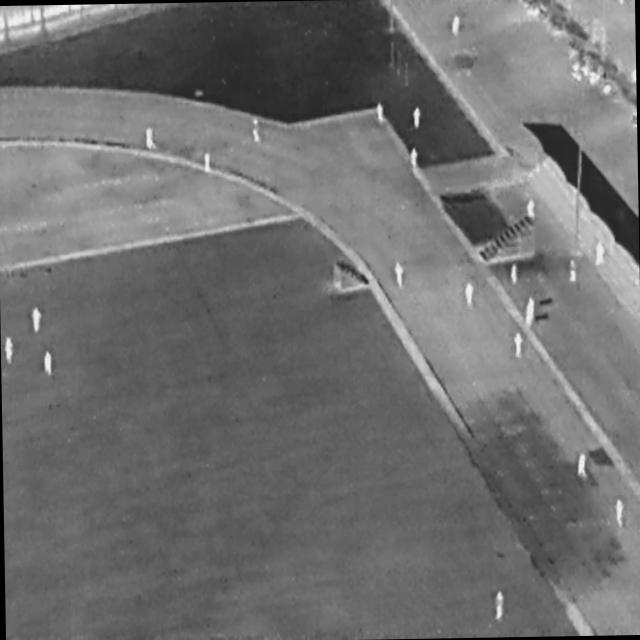person: (523, 295, 538, 328), (614, 499, 626, 529), (494, 591, 505, 622), (594, 240, 606, 266), (394, 262, 405, 290), (514, 333, 524, 359), (465, 284, 475, 310), (146, 128, 157, 151), (33, 309, 42, 334), (6, 338, 14, 366), (44, 352, 53, 376), (527, 199, 536, 223), (252, 120, 261, 143), (578, 454, 586, 479), (452, 16, 461, 37), (570, 259, 577, 284), (510, 264, 518, 285), (414, 109, 422, 130), (411, 149, 418, 170), (204, 153, 210, 173), (378, 104, 384, 124)
